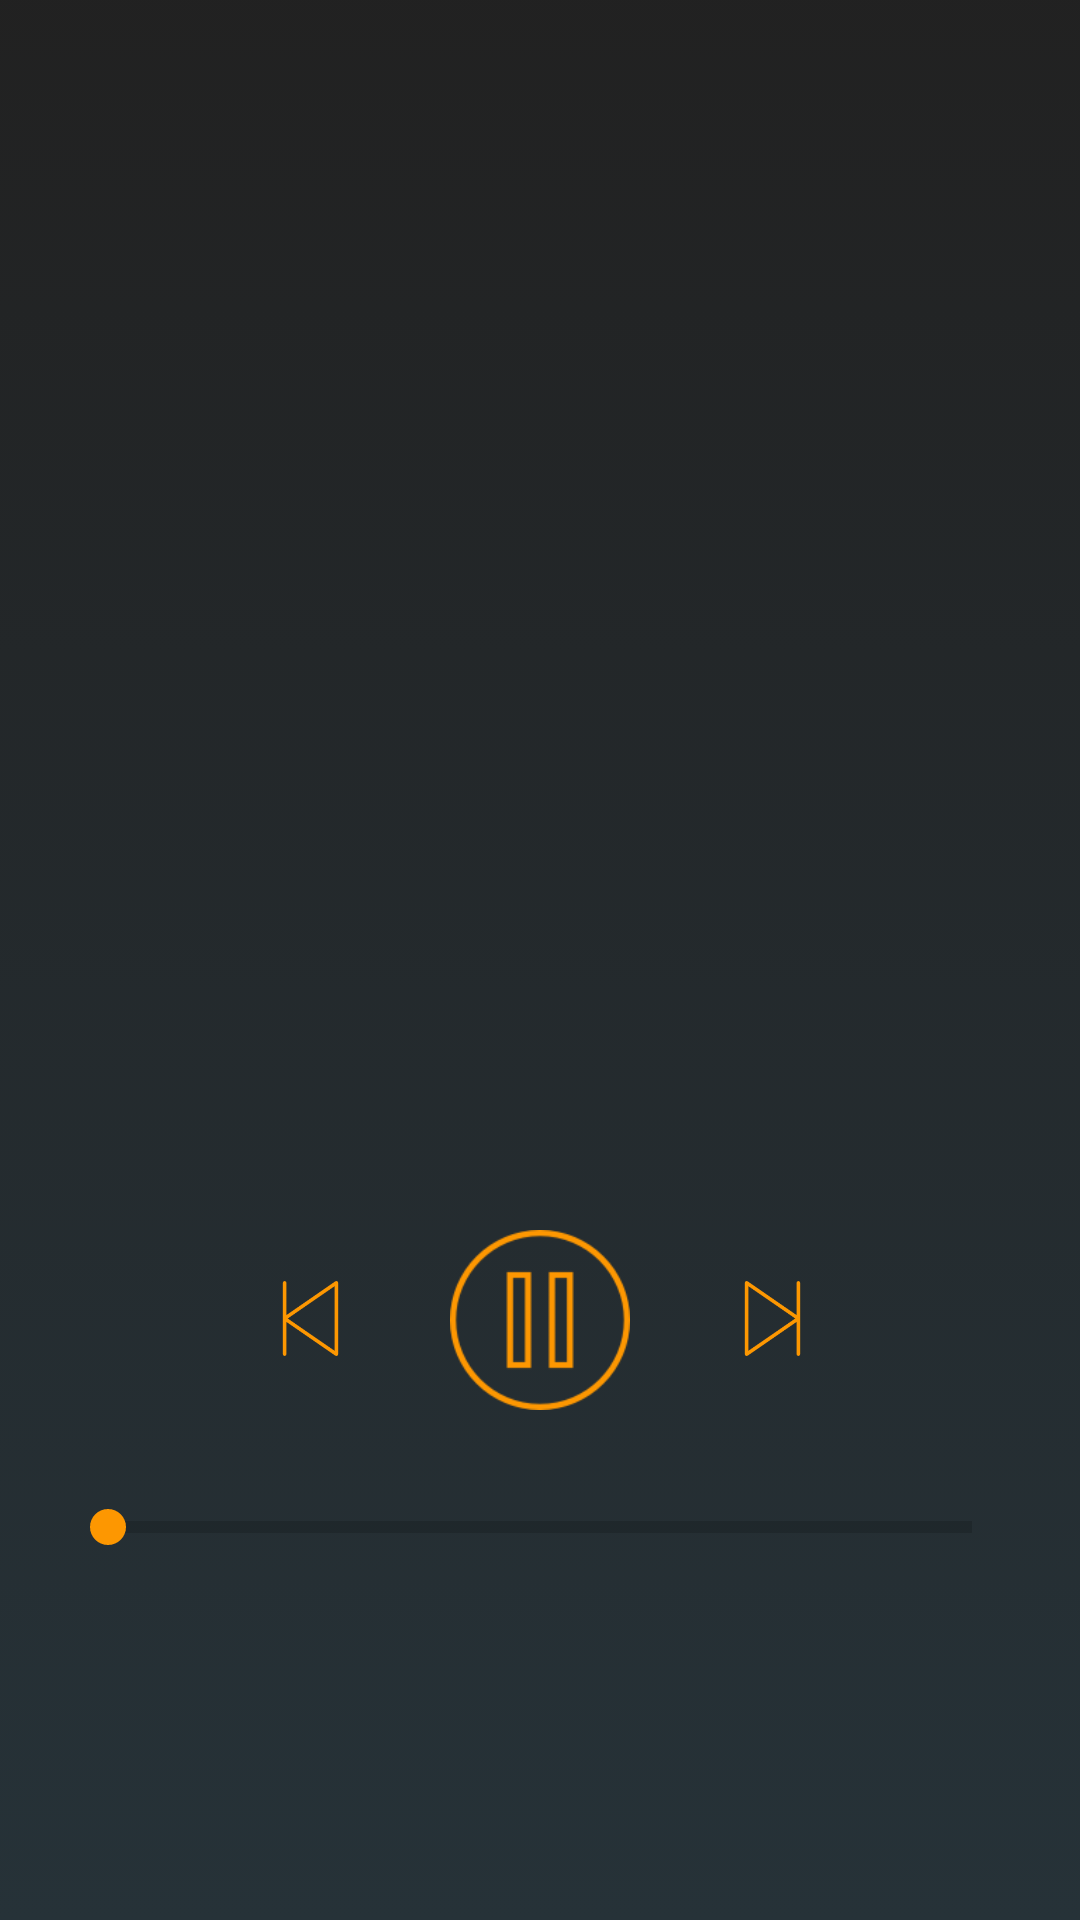

Icons on this 1080px x 1920px Android screen, each with the point to tap as (x,y):
back: (310,1318)
next: (772,1318)
pause: (540,1320)
